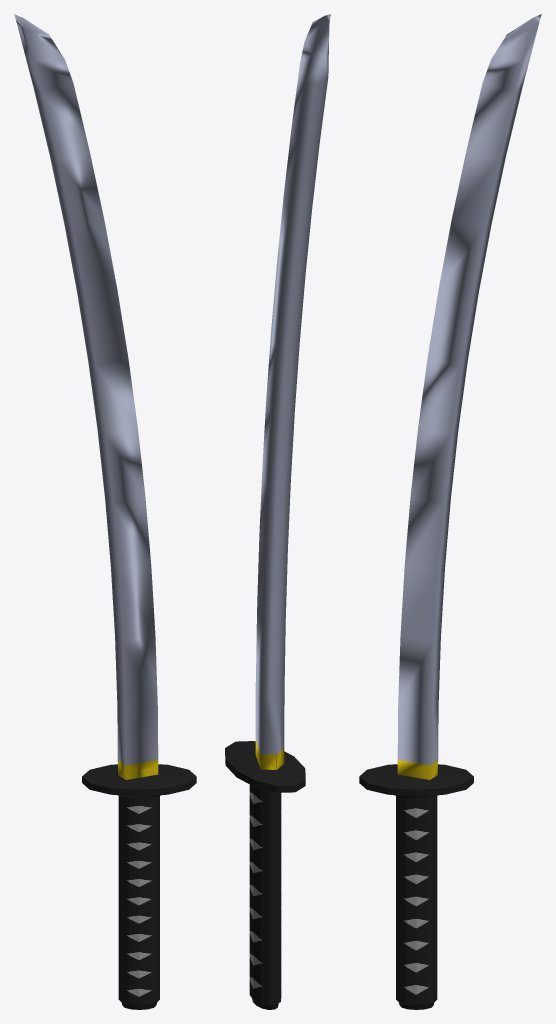
File: steel_katana.glb
3 renders of one model, left to right at view 1: azimuth 90°, elevation 25°; view 2: azimuth 210°, elevation 25°; view 3: azimuth 270°, elevation 25°, orthographic. The views are drawn at different scales.
Visible parts, largest first — view 1: Steel Katana; view 2: Steel Katana; view 3: Steel Katana.
Part boxes in pixels (left/top/right/bottom): Steel Katana: left=14, top=14, right=196, bottom=1009; Steel Katana: left=225, top=14, right=330, bottom=1009; Steel Katana: left=359, top=14, right=541, bottom=1009.
Bounding box in the file's own units: 0.0388 × 0.669 × 0.1115.
2 materials, 1 textured.
